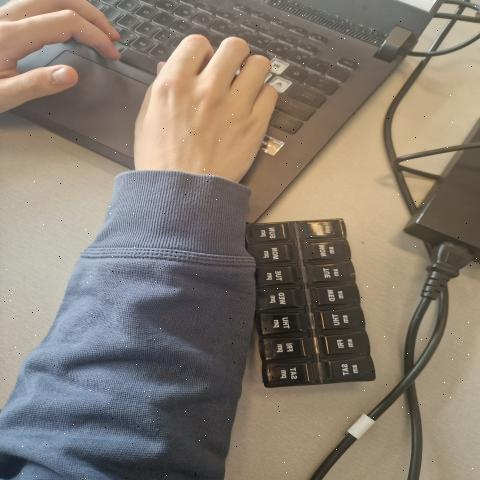Pill-box: (237, 187, 396, 417)
